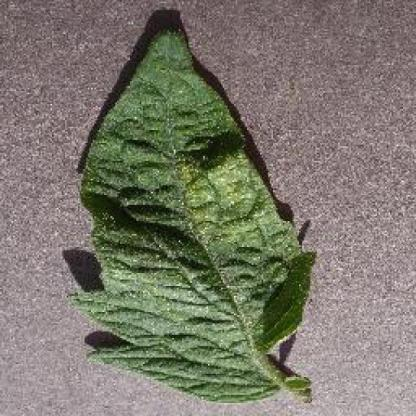Tomato_Spider_Mites: (86, 28, 315, 400)
